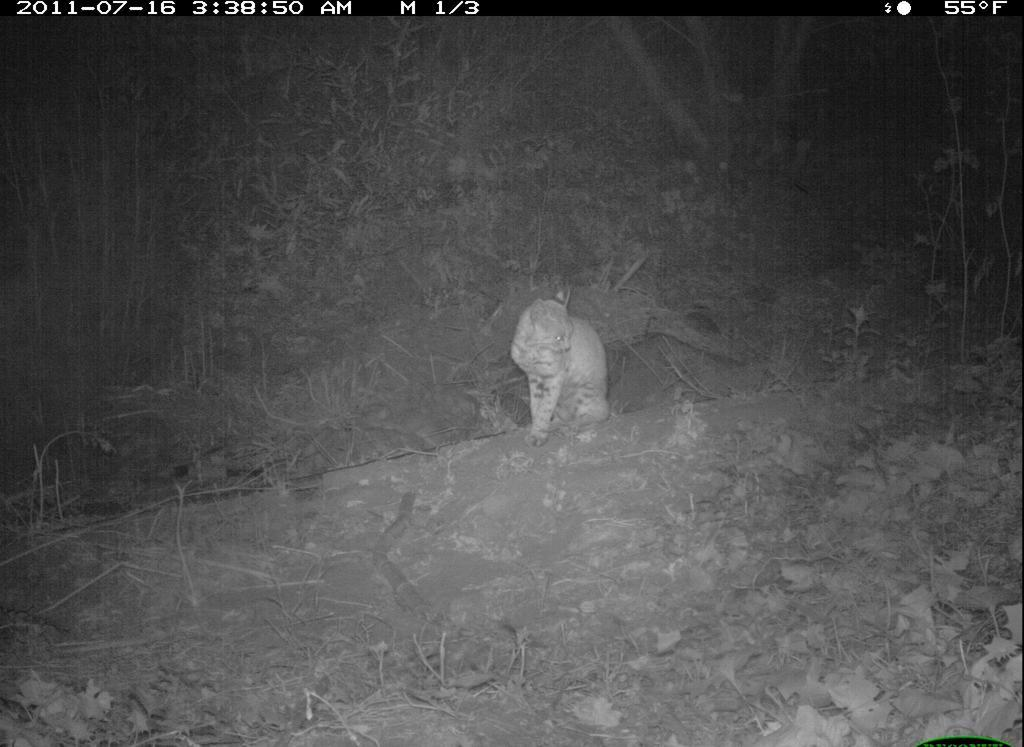bobcat: (483, 271, 641, 482)
